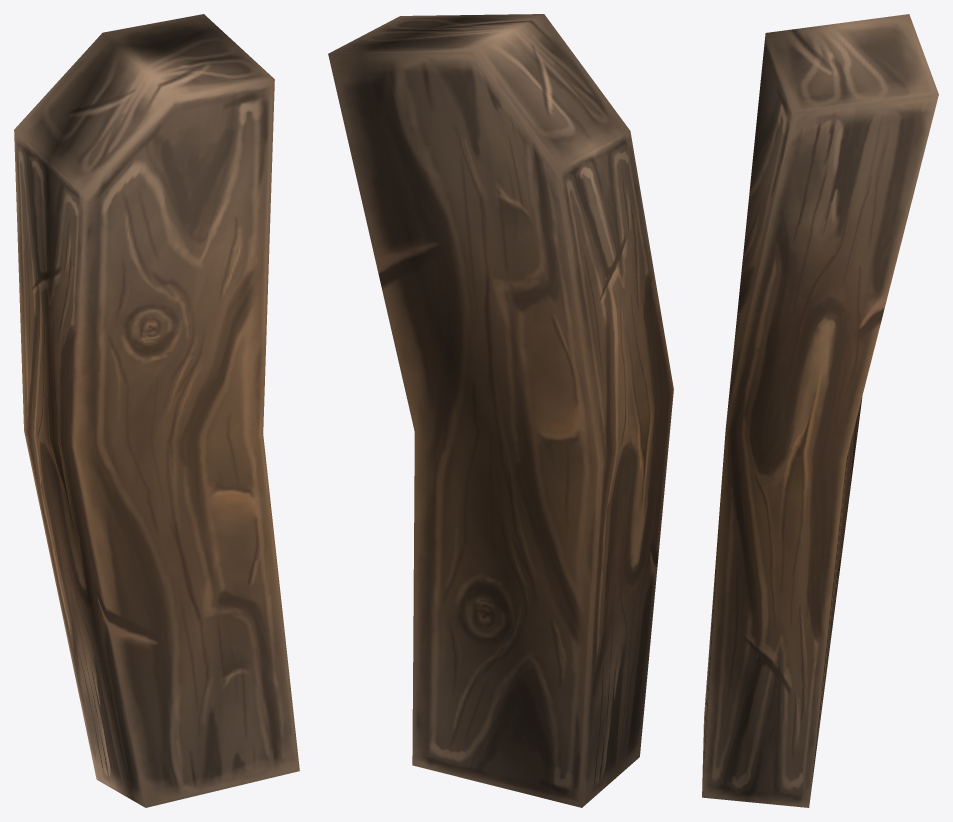
File: fenceWoodEnd.fbx
3 views of the same model, side by side, from view 1: azimuth 30°, elevation 25°; view 2: azimuth 150°, elevation 25°; view 3: azimuth 270°, elevation 25° (orthographic). The views are drawn at different scales.
Parts seen in each view (by area): view 1: fenceWoodEnd; view 2: fenceWoodEnd; view 3: fenceWoodEnd.
Part boxes in pixels (x1,y1,x2,y2): fenceWoodEnd: (14,14,299,807); fenceWoodEnd: (328,14,673,807); fenceWoodEnd: (702,14,938,807).
Size of the model in its own units: 43.66 by 131 by 37.89.
